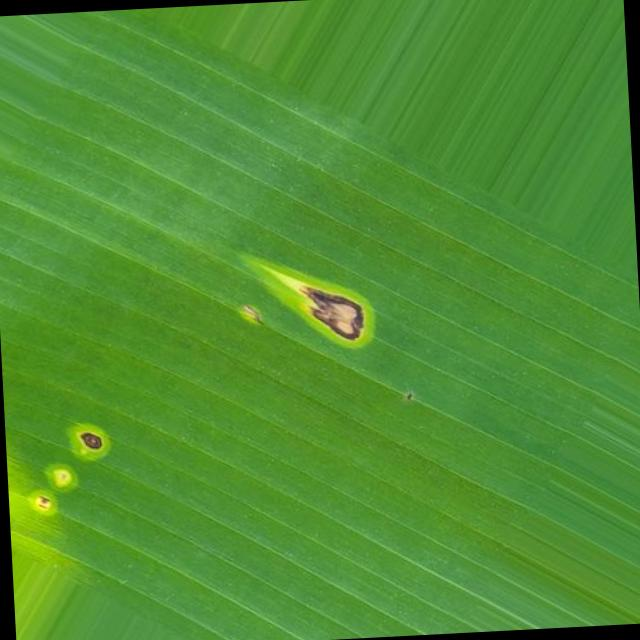Banana_Black_Sigatoka: (200, 208, 424, 392), (2, 362, 184, 548)
